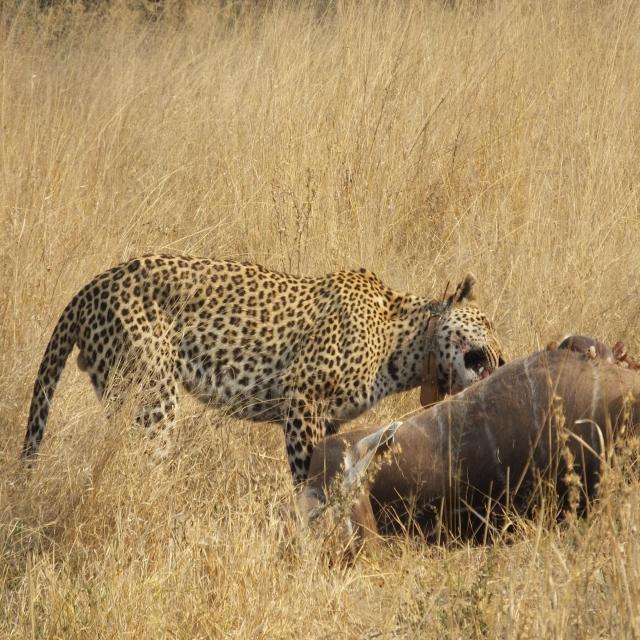Leopard: (19, 252, 508, 506)
